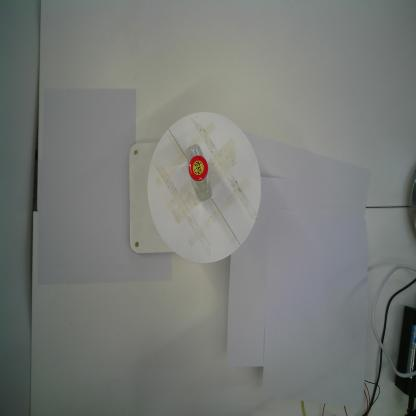Alcohol: (186, 144, 212, 203)
